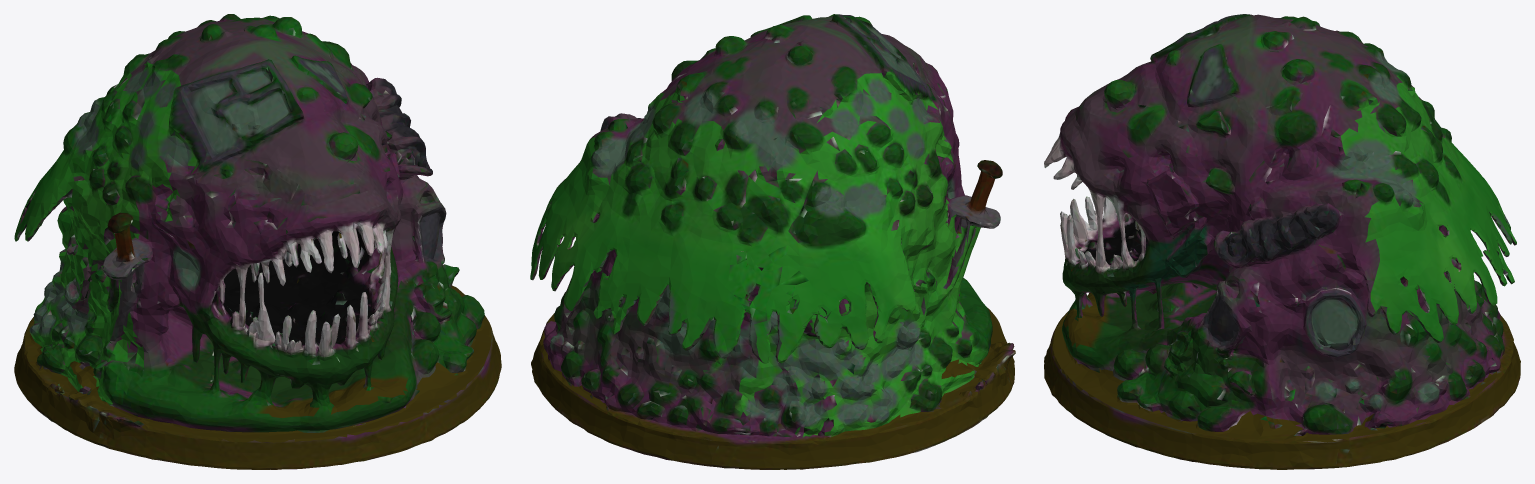
The model's file is devorador_de_metal.glb.
3 views of the same model, side by side, from view 1: azimuth 30°, elevation 25°; view 2: azimuth 150°, elevation 25°; view 3: azimuth 270°, elevation 25° (orthographic). The views are drawn at different scales.
Parts seen in each view (by area): view 1: tmpirvogiec.ply; view 2: tmpirvogiec.ply; view 3: tmpirvogiec.ply.
Part boxes in pixels (left/top/right/bottom): tmpirvogiec.ply: left=14, top=14, right=501, bottom=469; tmpirvogiec.ply: left=530, top=14, right=1015, bottom=469; tmpirvogiec.ply: left=1044, top=14, right=1520, bottom=469.
Bounding box in the file's own units: 1.95 × 1.53 × 1.96.
Materials: 1 (1 with a texture image).
